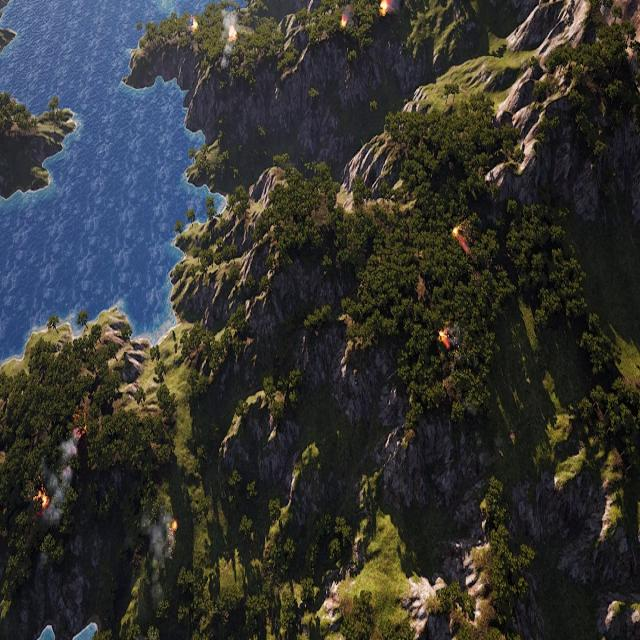fire: (452, 226, 469, 254), (75, 403, 88, 438), (440, 327, 452, 351), (36, 489, 49, 509), (188, 18, 197, 33), (230, 26, 238, 42), (380, 0, 389, 14), (172, 519, 178, 536), (342, 17, 348, 26)
smoke: (42, 433, 80, 528), (139, 506, 174, 604), (218, 8, 238, 73)
